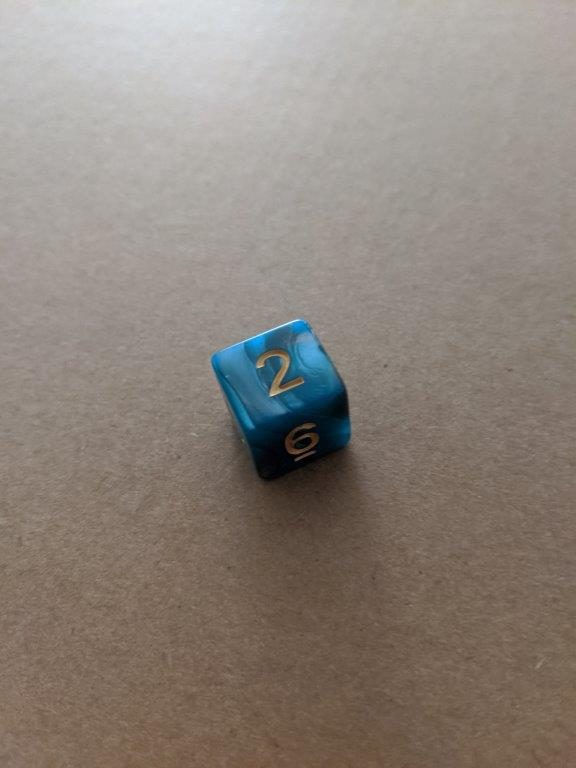d6-2: (208, 318, 353, 482)
